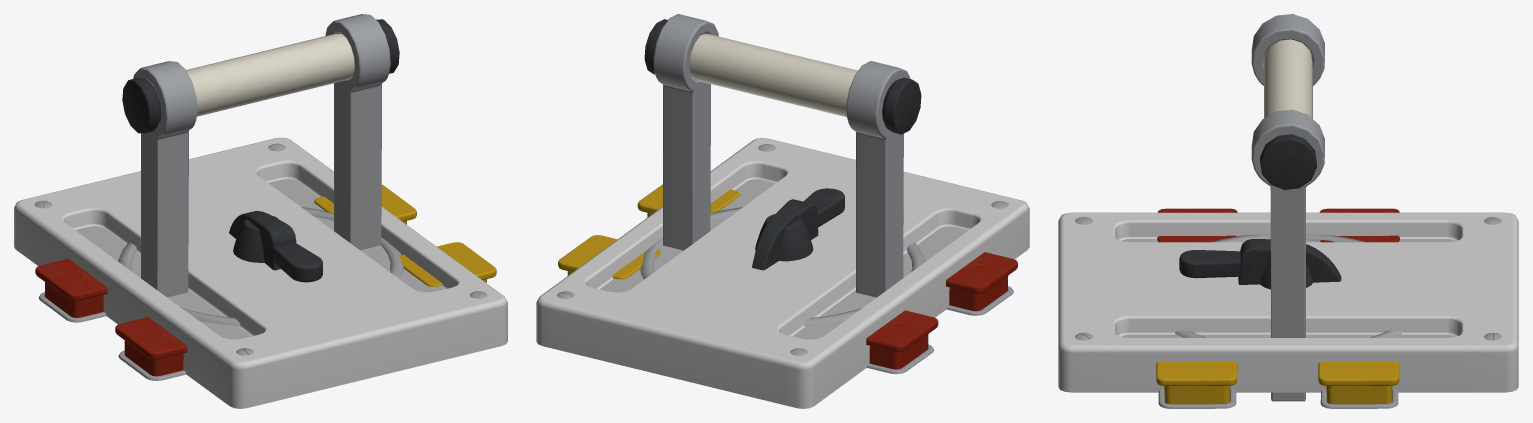
Rendered from Knobs.fbx.
3 views of the same model, side by side, from view 1: azimuth 30°, elevation 25°; view 2: azimuth 150°, elevation 25°; view 3: azimuth 270°, elevation 25° (orthographic).
Parts seen in each view (by area): view 1: LeverPlatform, Lever, ButtonsQuad, Knob01, Knob03, GaugeCircle, Screw; view 2: LeverPlatform, Lever, ButtonsQuad, Knob01, GaugeCircle, Knob03, Screw; view 3: LeverPlatform, Lever, ButtonsQuad, Knob01, Knob03, GaugeCircle, Screw.
Part boxes in pixels (bbox=[...]): LeverPlatform: bbox=[14, 137, 507, 408]; Lever: bbox=[122, 14, 399, 297]; ButtonsQuad: bbox=[35, 185, 496, 380]; Knob01: bbox=[229, 211, 296, 270]; Knob03: bbox=[272, 242, 322, 282]; GaugeCircle: bbox=[118, 207, 403, 326]; Screw: bbox=[34, 143, 487, 355]; LeverPlatform: bbox=[536, 138, 1029, 408]; Lever: bbox=[644, 14, 921, 297]; ButtonsQuad: bbox=[558, 184, 1017, 374]; Knob01: bbox=[752, 199, 818, 270]; GaugeCircle: bbox=[640, 207, 925, 326]; Knob03: bbox=[803, 188, 844, 227]; Screw: bbox=[557, 144, 1008, 355]; LeverPlatform: bbox=[1058, 212, 1518, 392]; Lever: bbox=[1251, 14, 1324, 401]; ButtonsQuad: bbox=[1156, 208, 1399, 408]; Knob01: bbox=[1238, 239, 1341, 289]; Knob03: bbox=[1179, 250, 1240, 278]; GaugeCircle: bbox=[1175, 234, 1401, 337]; Screw: bbox=[1075, 217, 1501, 340].
Bounding box in the file's own units: 43.11 × 32.41 × 48.7.
